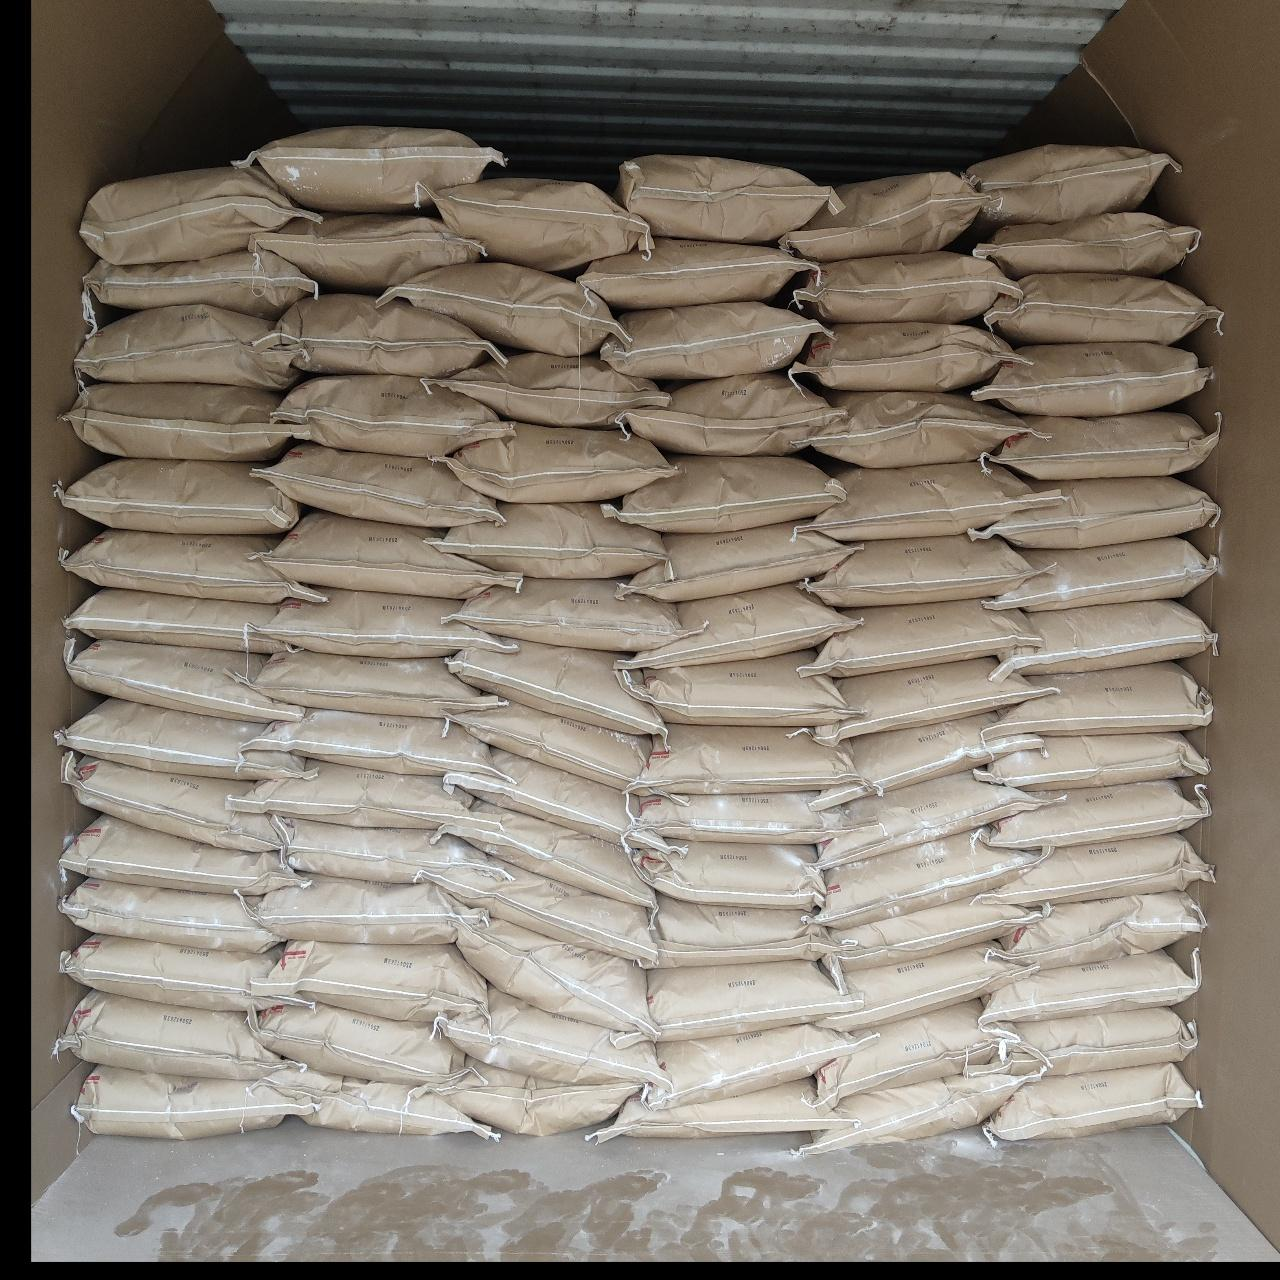sack: (436, 986, 668, 1092), (442, 750, 676, 855), (418, 860, 654, 962), (429, 802, 654, 908), (821, 772, 1062, 869), (456, 920, 652, 1036), (238, 128, 502, 212), (610, 960, 862, 1048), (82, 166, 312, 263), (810, 714, 1042, 806), (384, 263, 628, 350), (802, 658, 1054, 742), (424, 178, 651, 272), (816, 830, 1036, 926), (264, 512, 518, 595), (816, 1000, 1022, 1102), (640, 1024, 878, 1110), (64, 754, 284, 846), (56, 697, 304, 779), (254, 444, 498, 526), (806, 459, 1051, 540), (62, 934, 309, 1014), (57, 992, 284, 1078), (618, 584, 856, 666), (450, 642, 662, 734), (60, 816, 306, 894), (799, 1073, 1030, 1155), (260, 297, 501, 374), (74, 306, 300, 388), (60, 530, 322, 600), (66, 640, 300, 719), (274, 376, 512, 454), (782, 172, 990, 260), (799, 600, 1040, 676), (424, 352, 670, 425), (250, 1064, 496, 1138), (440, 424, 674, 502), (620, 522, 858, 598), (618, 156, 838, 238), (824, 898, 1044, 980), (452, 578, 700, 651), (450, 704, 654, 792), (54, 459, 300, 532), (821, 946, 1030, 1030), (622, 372, 838, 454), (610, 456, 840, 532), (248, 215, 482, 290), (250, 1002, 462, 1084), (236, 651, 501, 716), (62, 384, 292, 459), (266, 942, 486, 1020), (983, 538, 1220, 610), (971, 478, 1218, 546), (974, 343, 1212, 414), (433, 502, 662, 574), (806, 392, 1028, 467), (971, 779, 1210, 849), (410, 1060, 634, 1133), (72, 1065, 292, 1141), (804, 536, 1039, 606), (966, 147, 1178, 224), (986, 1064, 1198, 1142), (634, 652, 856, 726), (580, 238, 812, 308), (604, 304, 824, 377), (590, 1080, 850, 1142), (264, 588, 510, 654), (996, 600, 1214, 674), (980, 948, 1198, 1022), (986, 274, 1223, 342), (57, 878, 282, 949), (976, 835, 1212, 903), (82, 250, 316, 318), (990, 662, 1212, 734), (250, 876, 484, 942), (240, 710, 486, 774), (229, 762, 470, 826), (986, 410, 1214, 478), (998, 892, 1204, 966), (796, 252, 1020, 320), (792, 324, 1020, 390), (974, 1008, 1196, 1076), (66, 588, 294, 654), (282, 818, 508, 881), (632, 726, 852, 790), (974, 731, 1206, 790), (976, 215, 1198, 275), (651, 896, 838, 966), (634, 840, 822, 908), (629, 792, 846, 844)
